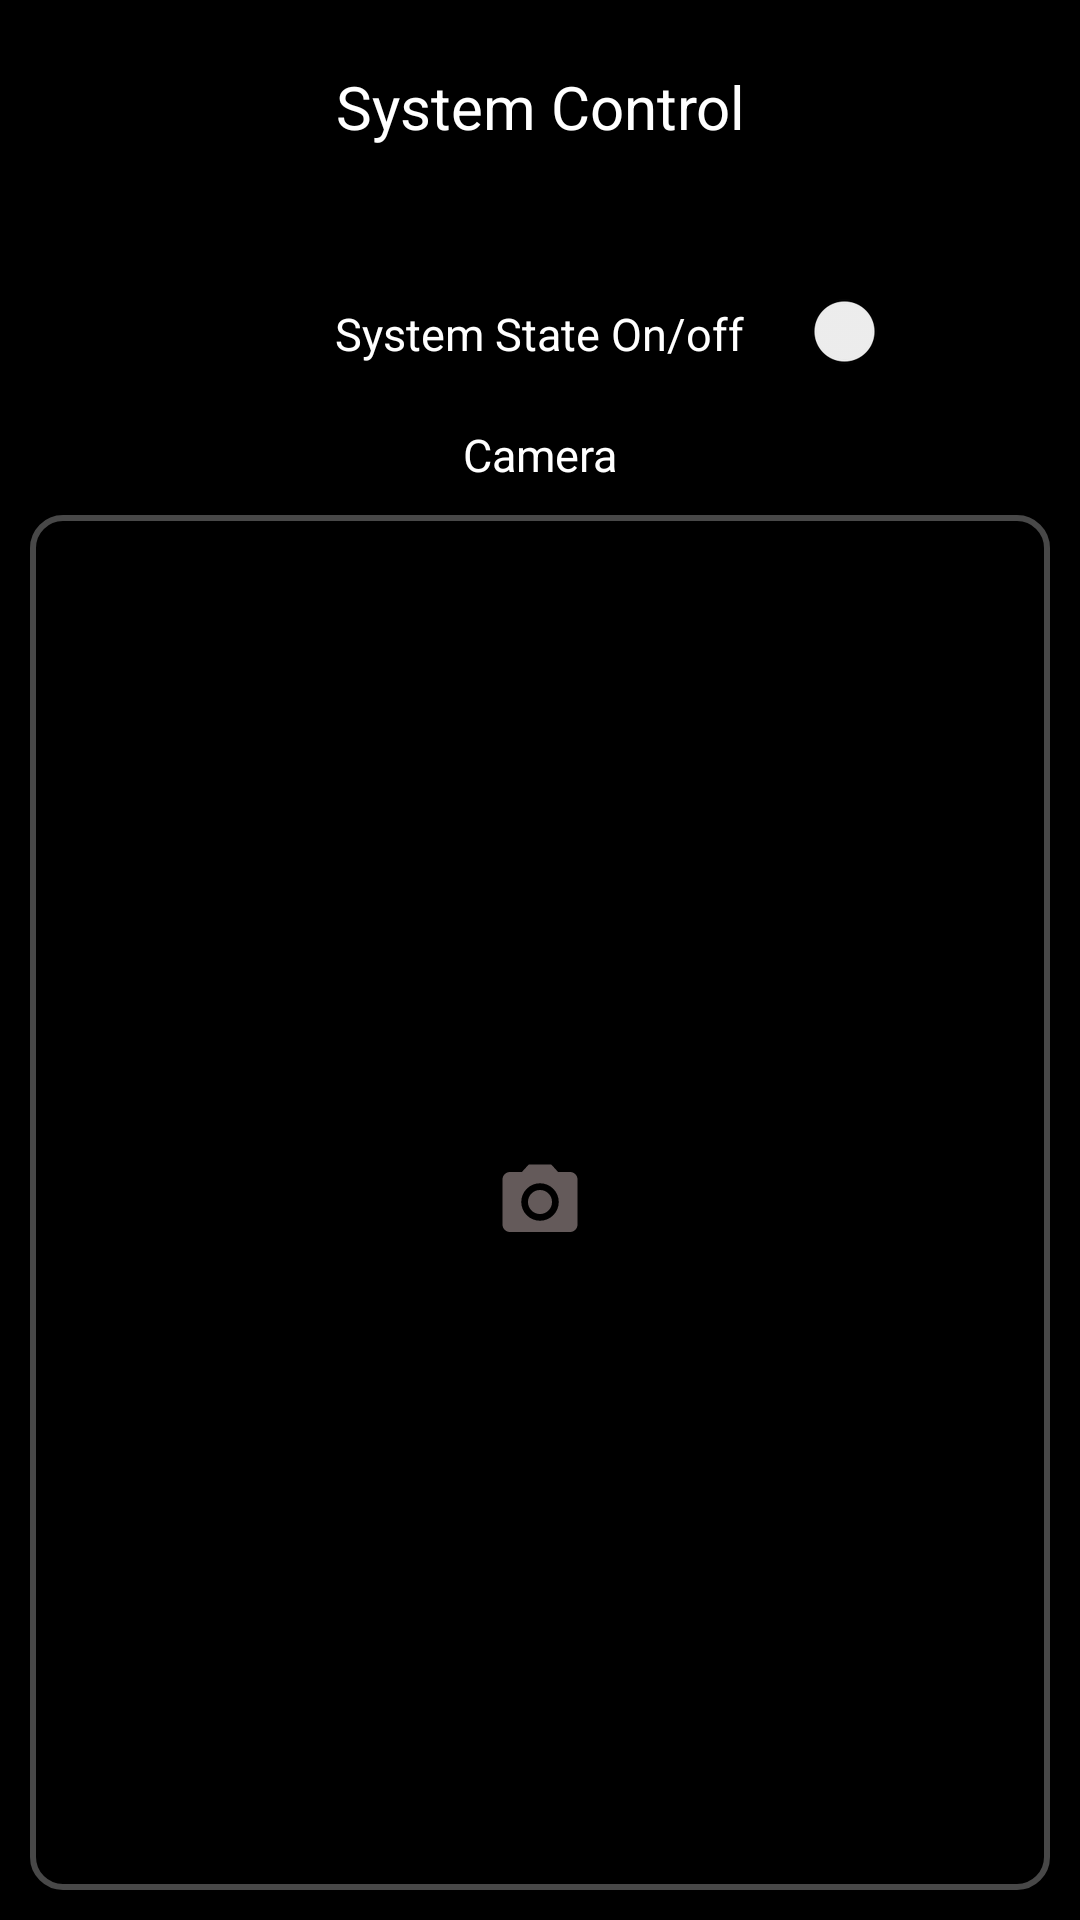

Named icons in this screenshot (1080w x 1920h) and their centers, [x,y]:
photo camera: [540,1198]
